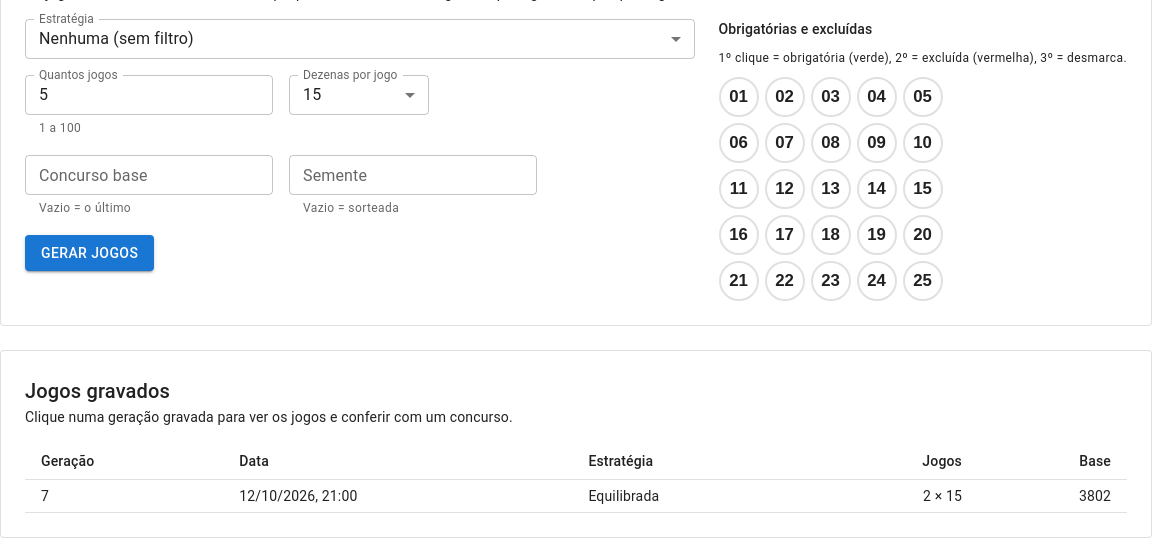
Página de jogos › confere um jogo contra o histórico
The width and height of the screenshot is (1152, 538).
(page scrolled)
Click the text "Equilibrada" in the row of "12/10/2026, 21:00": point(692, 496) [572,480,812,513]
(page scrolled)
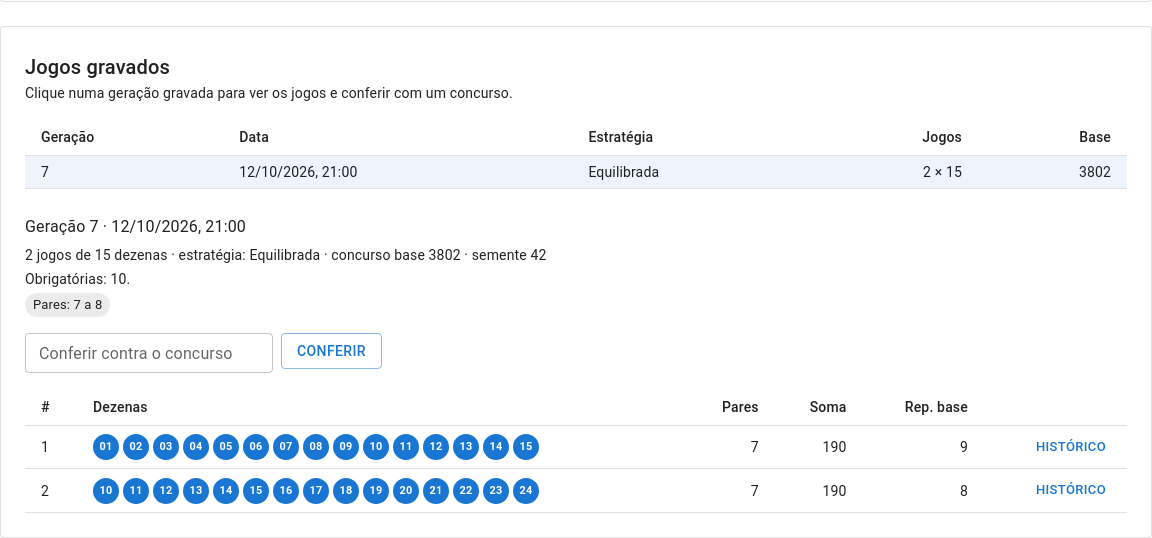
Click the 1st button "Histórico": point(1071, 447) [1031,432,1111,462]
(page scrolled)
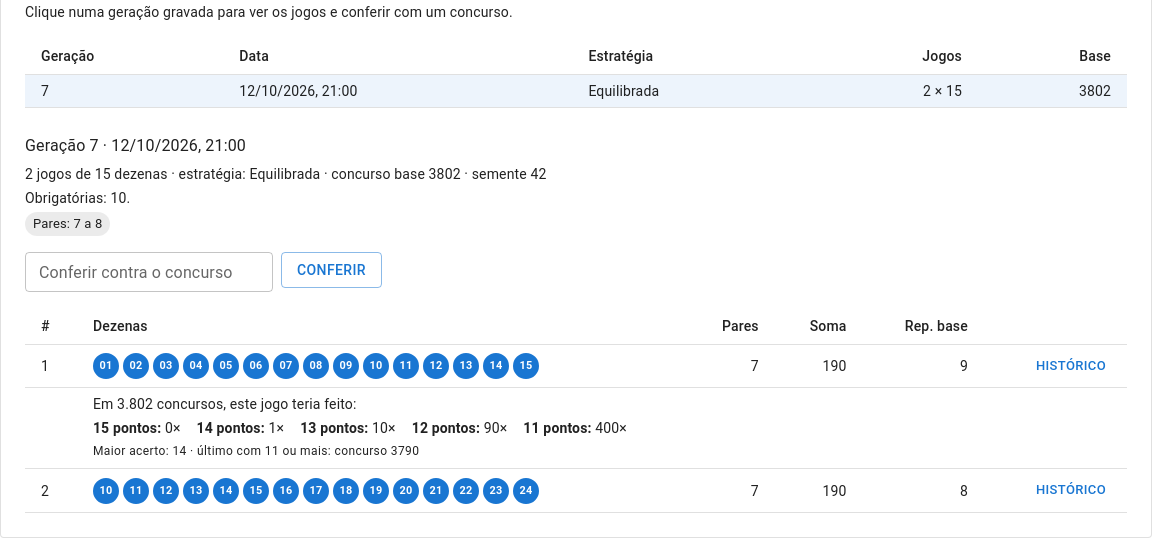
Now the text "Maior acerto: 14 · último com 11 ou mais: concurso 3790" is shown, box [93,444,419,458]
